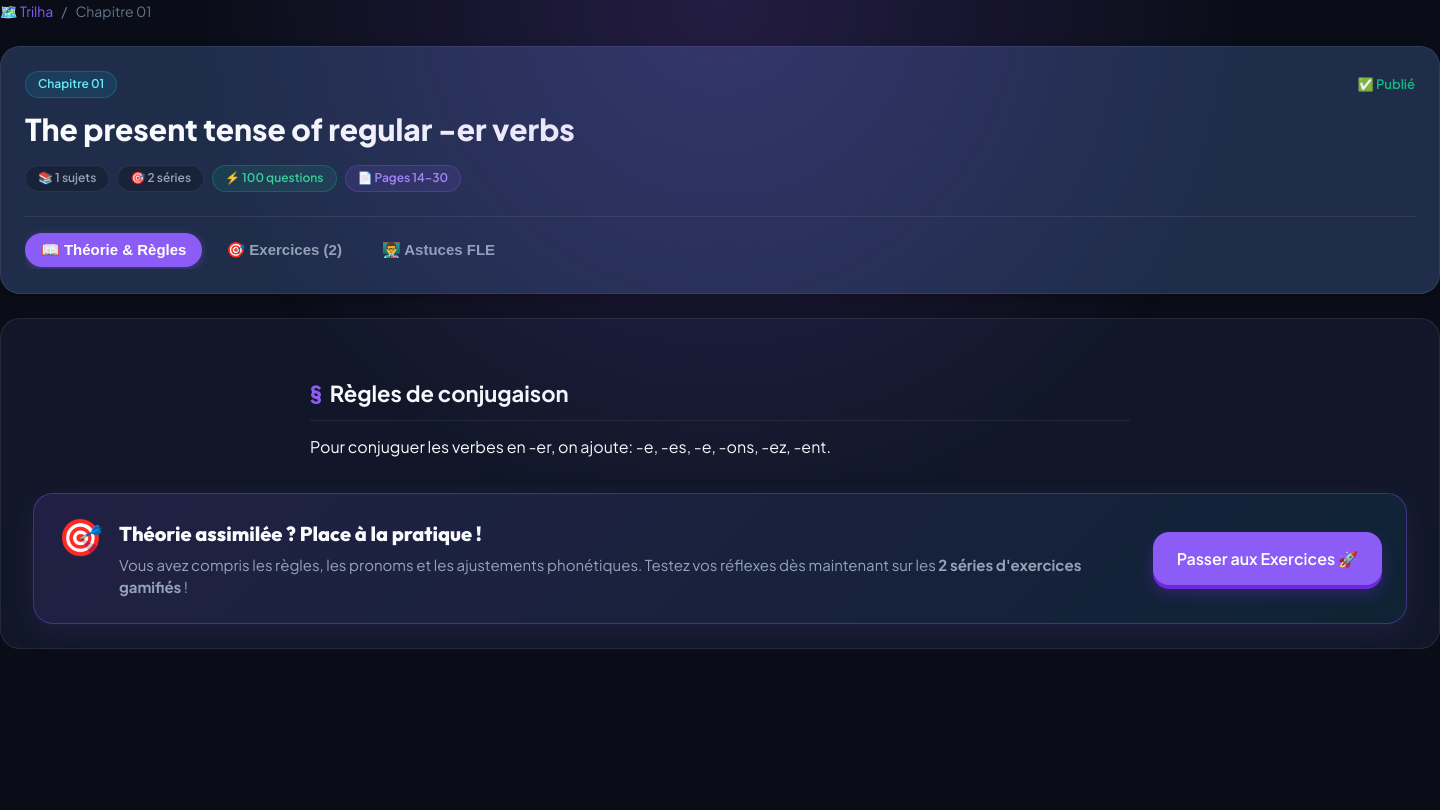
Scenario: ChapterPage Component › renders pedagogical Astuces FLE tab with all 6 professor tips for lusophones
Note: Click tips tab
Click the tab "👨‍🏫 Astuces FLE": (438, 250) [366,233,511,267]
(page scrolled)
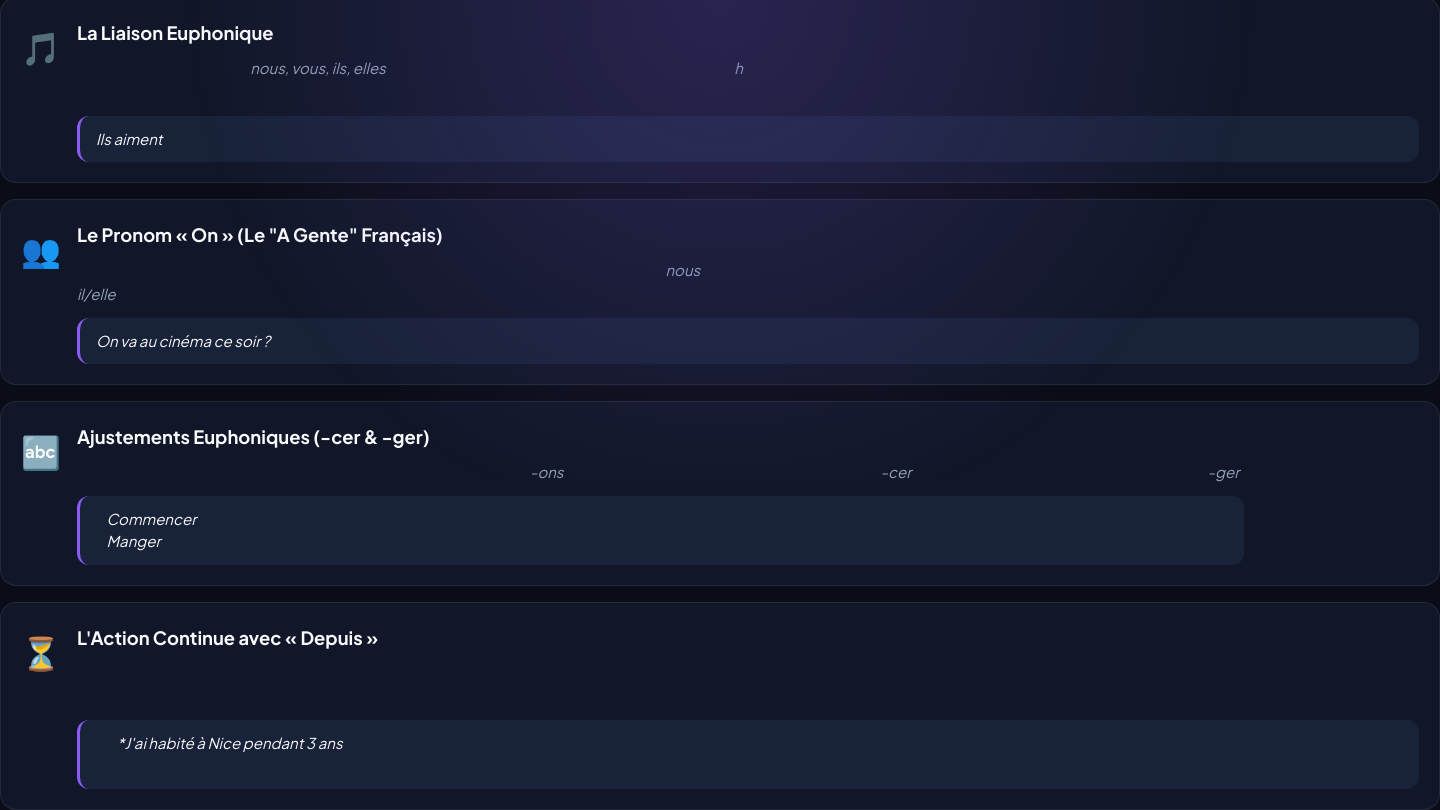
Expected: the heading "La Liaison Euphonique" is shown, [77,21,274,44]
Expected: the heading "Le Pronom « On » (Le \"A Gente\" Français)" is shown, [77,223,443,246]
Expected: the heading "Ajustements Euphoniques (-cer & -ger)" is shown, [77,425,430,448]
